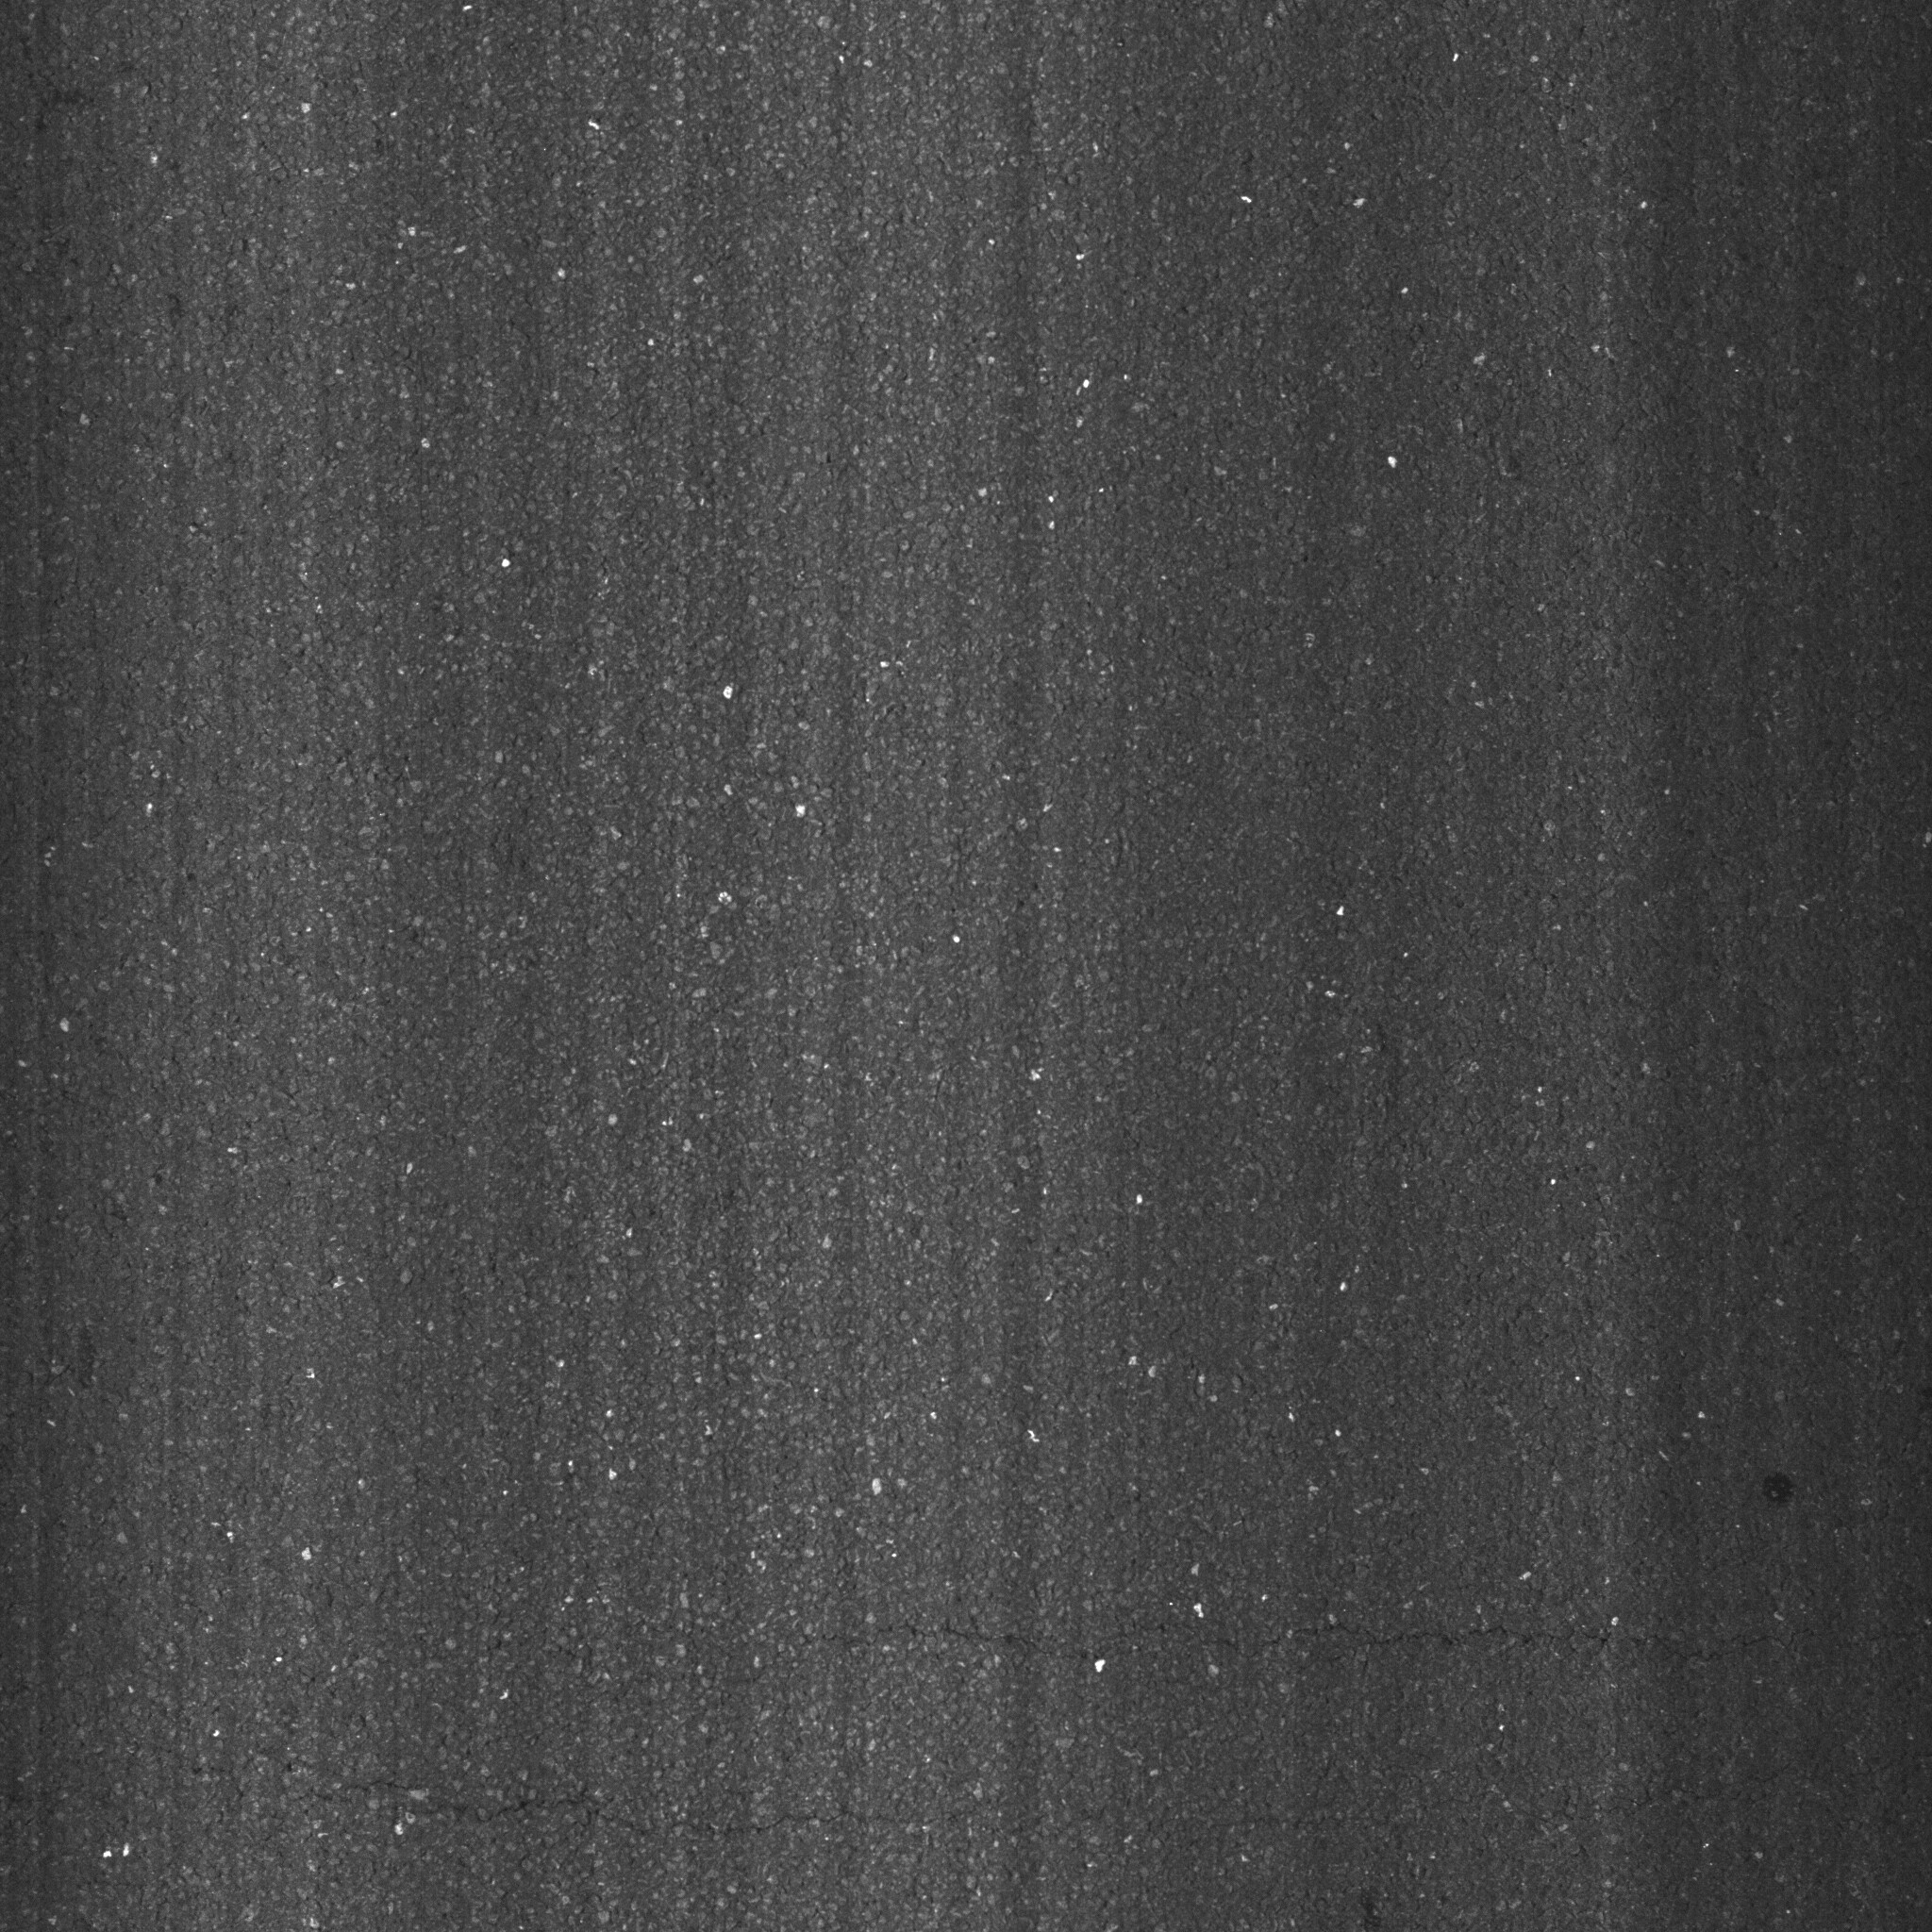transeverse: (165, 1730, 1058, 1867), (814, 1603, 1771, 1711)
